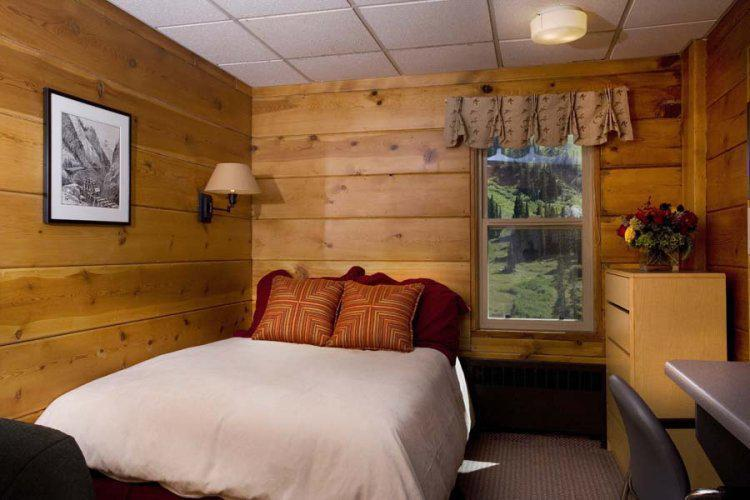Armario: (604, 278, 713, 367)
Cama: (37, 271, 470, 492)
Ventana: (476, 126, 587, 331)
